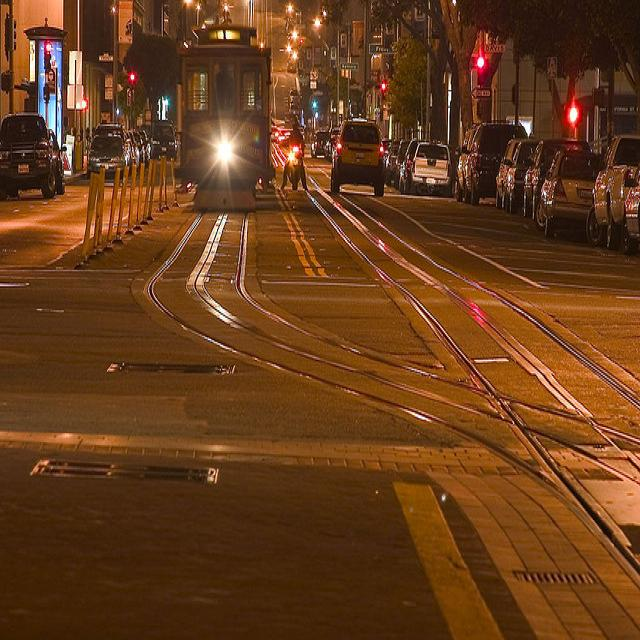motor: (287, 144, 302, 191)
